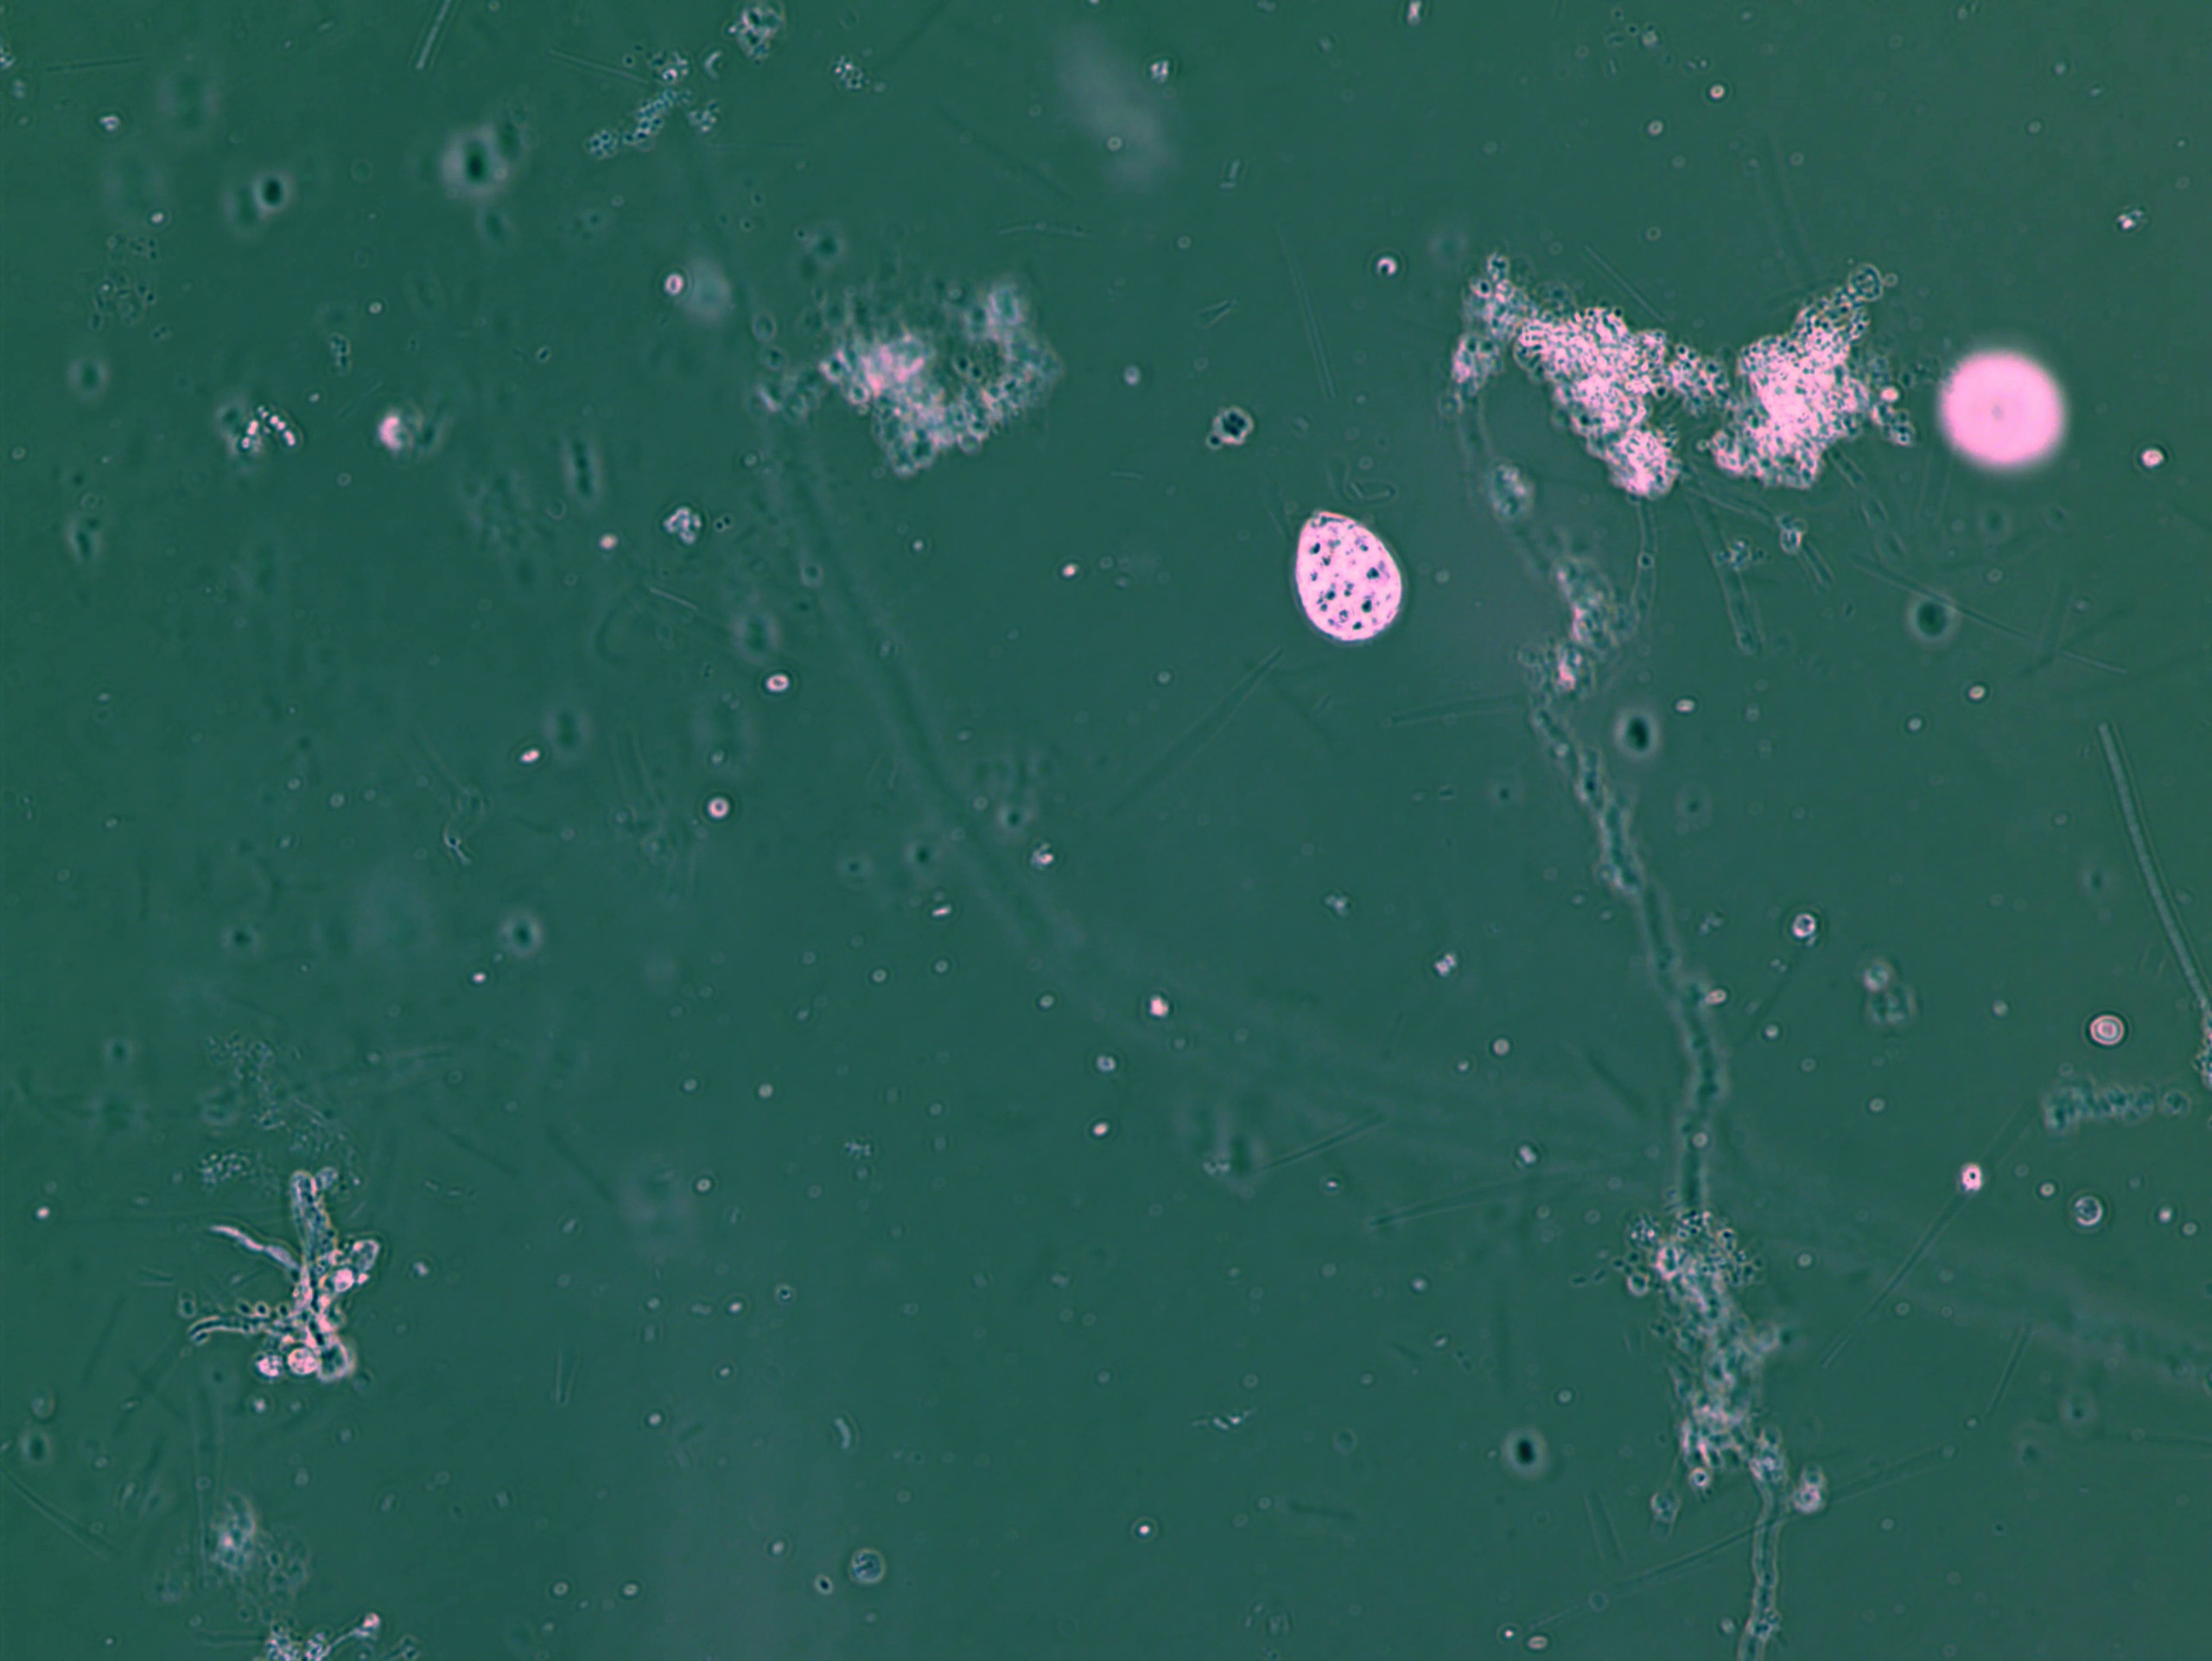depth:0: (1270, 482, 1425, 673)
